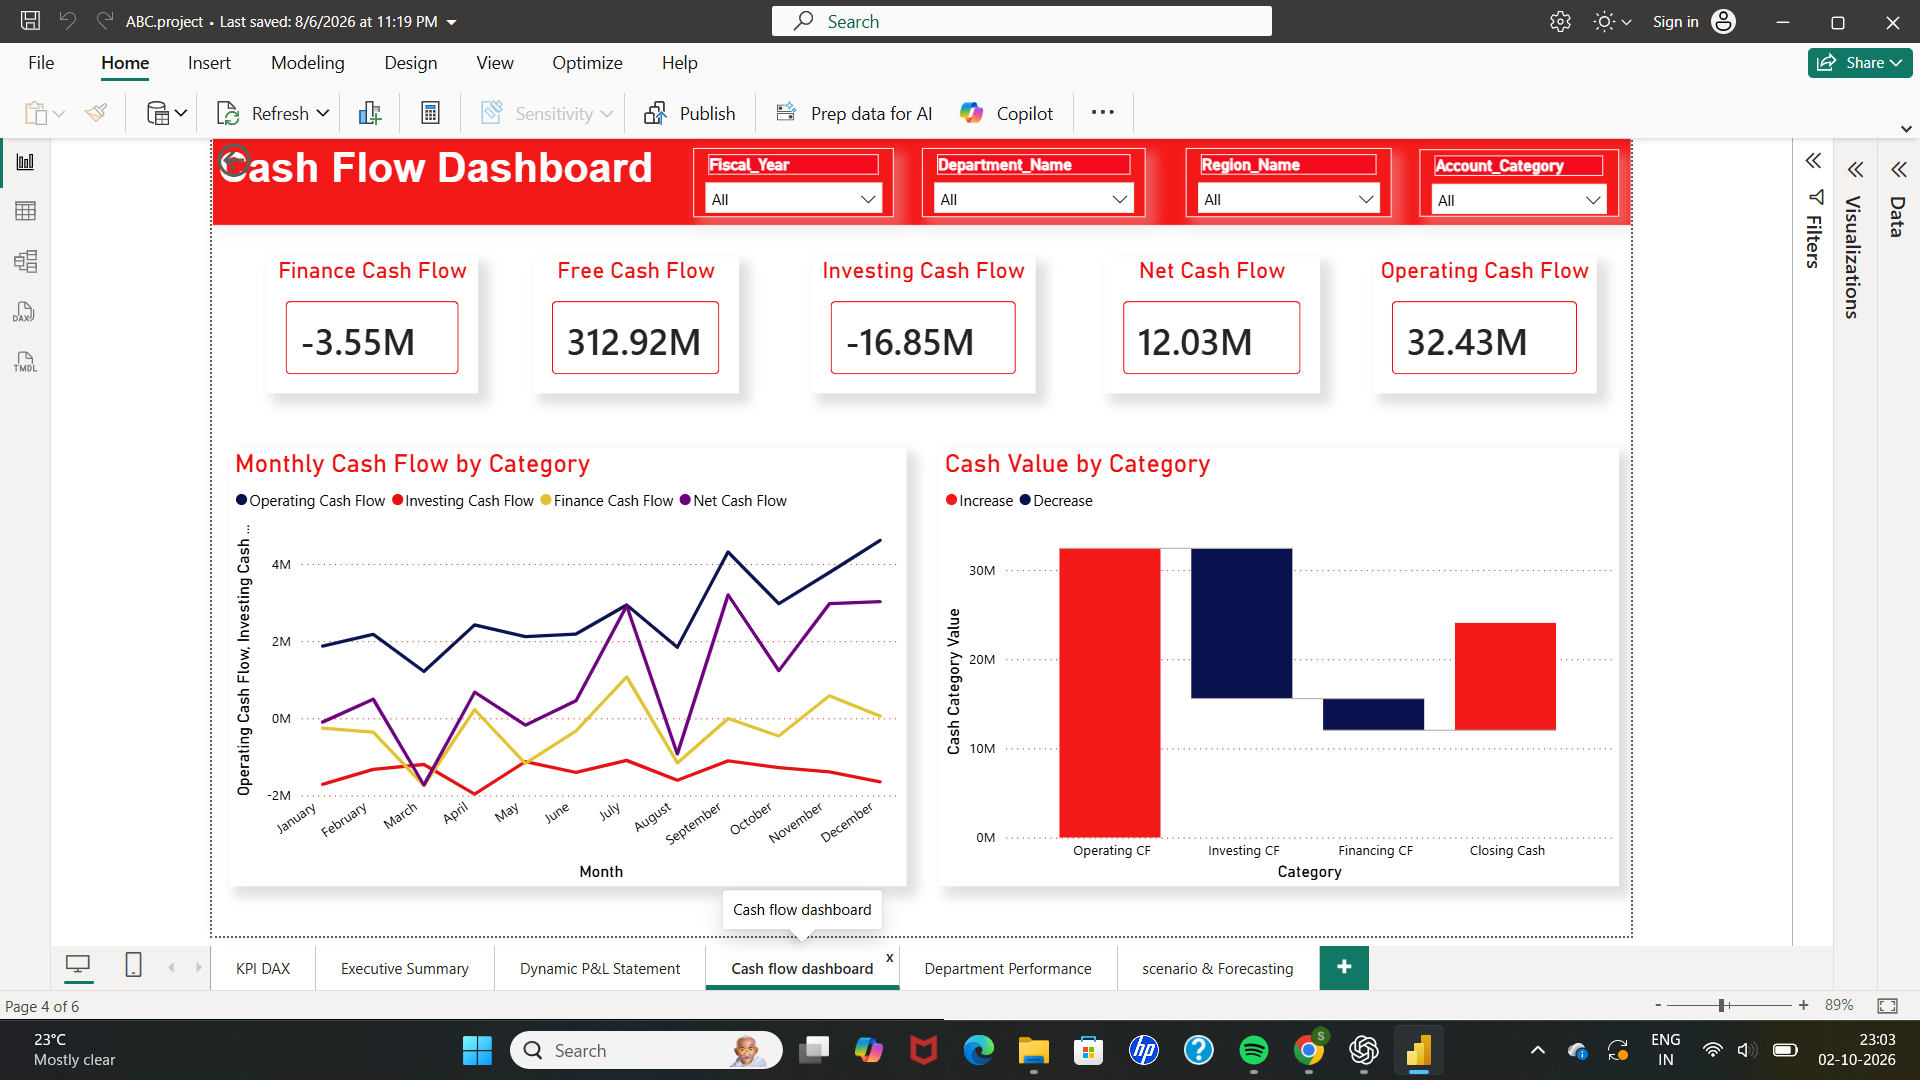

The dashboard page shown, as its layout file describes it:
{"tool":"powerbi","page":{"name":"Cash flow dashboard","canvas":[1280,720],"ordinal":3},"visuals":[{"type":"textbox","box":[0,0,1280.3,79.5],"z":0},{"type":"cardVisual","title":"Operating Cash Flow","fields":{"Data":["KPI DAX.Operating Cash Flow"]},"box":[1046.7,107.6,201.8,123.5],"z":1000},{"type":"cardVisual","title":"Free Cash Flow","fields":{"Data":["KPI DAX.Free Cash Flow"]},"box":[289.8,107.6,185.9,123.5],"z":2000},{"type":"cardVisual","title":"Finance Cash Flow","fields":{"Data":["KPI DAX.Finance Cash Flow"]},"box":[50.1,107.6,190.8,123.5],"z":3000},{"type":"cardVisual","title":"Investing Cash Flow","fields":{"Data":["KPI DAX.Investing Cash Flow"]},"box":[540.5,107.6,201.8,123.5],"z":4000},{"type":"cardVisual","title":"Net Cash Flow","fields":{"Data":["KPI DAX.Net Cash Flow"]},"box":[804.6,107.6,194.4,123.5],"z":5000},{"type":"slicer","fields":{"Values":["Dim_Account.Account_Category"]},"box":[1088.3,9.8,179.8,61.1],"z":7000},{"type":"slicer","fields":{"Values":["Dim_Department.Department_Name"]},"box":[640.8,8.6,201.8,62.4],"z":8000},{"type":"slicer","fields":{"Values":["Dim_Date.Fiscal_Year"]},"box":[434.1,8.6,181,62.4],"z":9000},{"type":"slicer","fields":{"Values":["Dim_Region.Region_Name"]},"box":[878,8.6,185.9,62.4],"z":10000},{"type":"actionButton","box":[0,0,100,40],"z":11000},{"type":"waterfallChart","title":"Cash Value by  Category","fields":{"Y":["KPI DAX.Cash Category Value"],"Category":["Dim_CashCategory.Category"]},"box":[655.4,280,612.6,395],"z":12000},{"type":"lineChart","title":"Monthly Cash Flow by Category","fields":{"Category":["Dim_Date.Date.Variation.Date Hierarchy.Month"],"Y":["KPI DAX.Operating Cash Flow","KPI DAX.Investing Cash Flow","KPI DAX.Finance Cash Flow","KPI DAX.Net Cash Flow"]},"box":[15.9,280,610.2,395],"z":13000}]}

Visuals, with their boxes on the page's 1280x720 design canvas (x1, y1, x2, y2). These are canvas units, not pixel positions in the 1920x1080 screenshot, which may show the page scaled, cropped or inside an application window:
textbox: {"left": 0, "top": 0, "right": 1280, "bottom": 80}
"Operating Cash Flow" cardVisual: {"left": 1047, "top": 108, "right": 1248, "bottom": 231}
"Free Cash Flow" cardVisual: {"left": 290, "top": 108, "right": 476, "bottom": 231}
"Finance Cash Flow" cardVisual: {"left": 50, "top": 108, "right": 241, "bottom": 231}
"Investing Cash Flow" cardVisual: {"left": 540, "top": 108, "right": 742, "bottom": 231}
"Net Cash Flow" cardVisual: {"left": 805, "top": 108, "right": 999, "bottom": 231}
slicer - Dim_Account.Account_Category: {"left": 1088, "top": 10, "right": 1268, "bottom": 71}
slicer - Dim_Department.Department_Name: {"left": 641, "top": 9, "right": 843, "bottom": 71}
slicer - Dim_Date.Fiscal_Year: {"left": 434, "top": 9, "right": 615, "bottom": 71}
slicer - Dim_Region.Region_Name: {"left": 878, "top": 9, "right": 1064, "bottom": 71}
actionButton: {"left": 0, "top": 0, "right": 100, "bottom": 40}
"Cash Value by  Category" waterfallChart: {"left": 655, "top": 280, "right": 1268, "bottom": 675}
"Monthly Cash Flow by Category" lineChart: {"left": 16, "top": 280, "right": 626, "bottom": 675}
